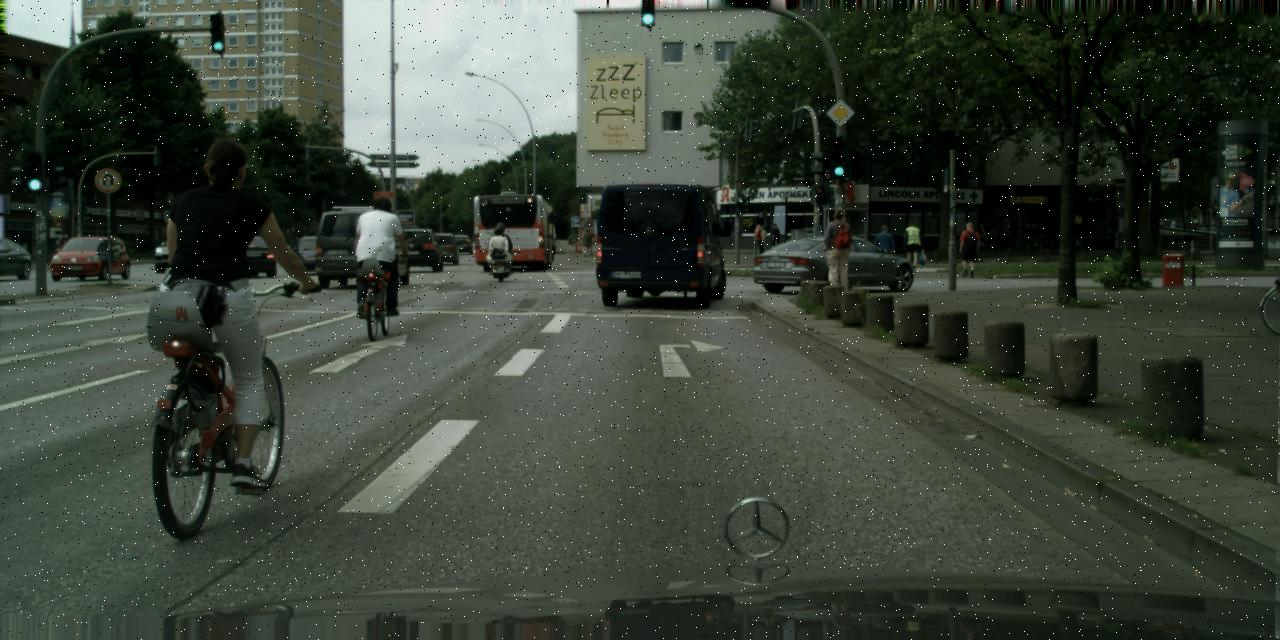ped: (165, 138, 288, 440), (356, 194, 404, 314), (822, 208, 858, 298), (958, 222, 980, 276), (902, 221, 922, 271), (490, 221, 509, 270), (876, 225, 893, 269), (490, 227, 507, 268), (768, 223, 782, 256), (754, 224, 767, 252), (581, 228, 592, 256)
